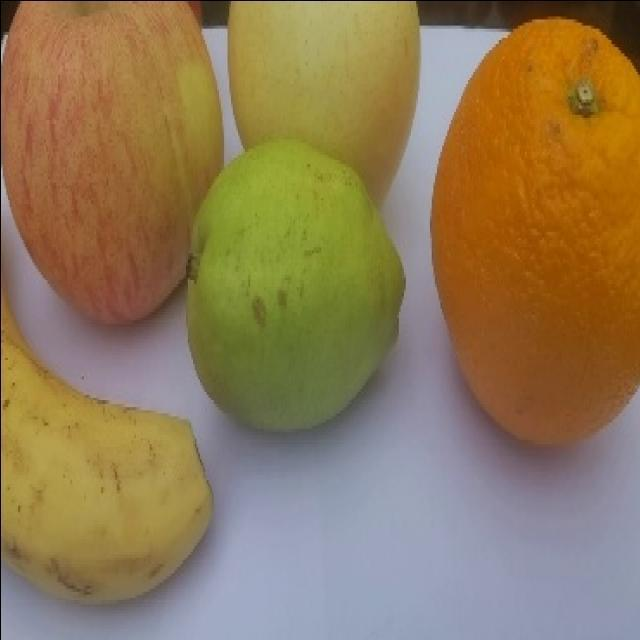Apple: (0, 0, 224, 326)
Banana: (0, 286, 213, 605)
Orange: (429, 15, 639, 445)
